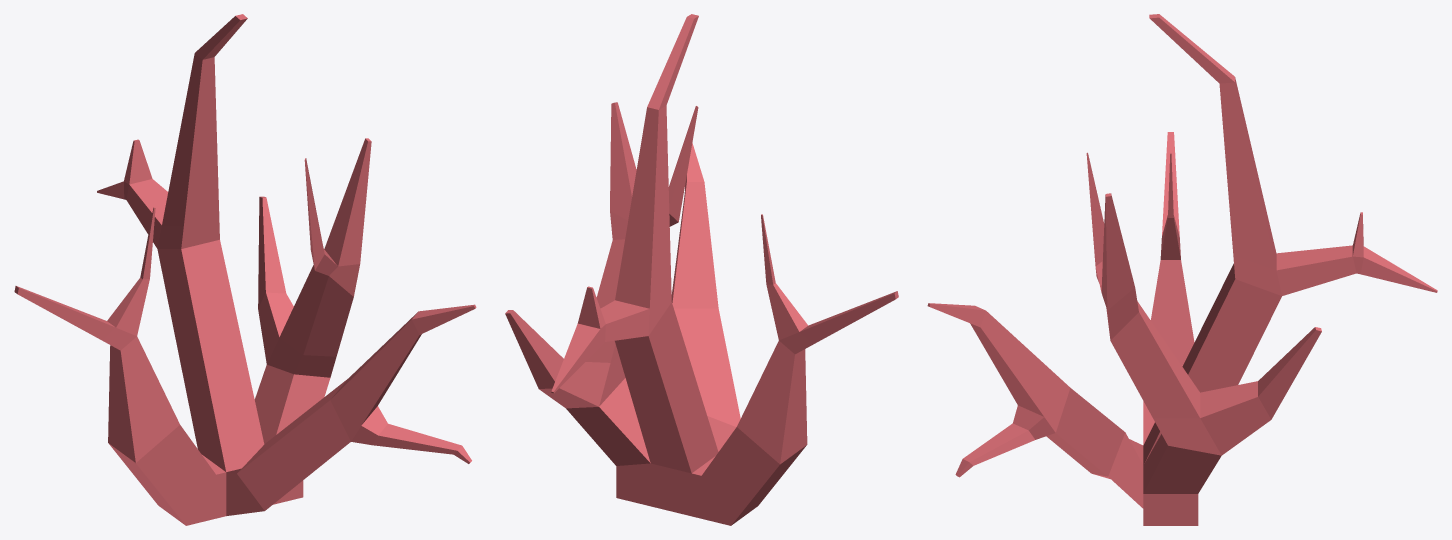
File: coral.fbx
The picture shows the model from 3 angles, left to right: view 1: azimuth 30°, elevation 25°; view 2: azimuth 150°, elevation 25°; view 3: azimuth 270°, elevation 25°; orthographic projection. The views are drawn at different scales.
Parts seen in each view (by area): view 1: coral; view 2: coral; view 3: coral.
Boxes of the visible parts, left/top/right/bottom form: coral: left=14, top=14, right=476, bottom=525; coral: left=505, top=14, right=898, bottom=525; coral: left=927, top=14, right=1437, bottom=525.
Size of the model in its own units: 207 by 278 by 266.
